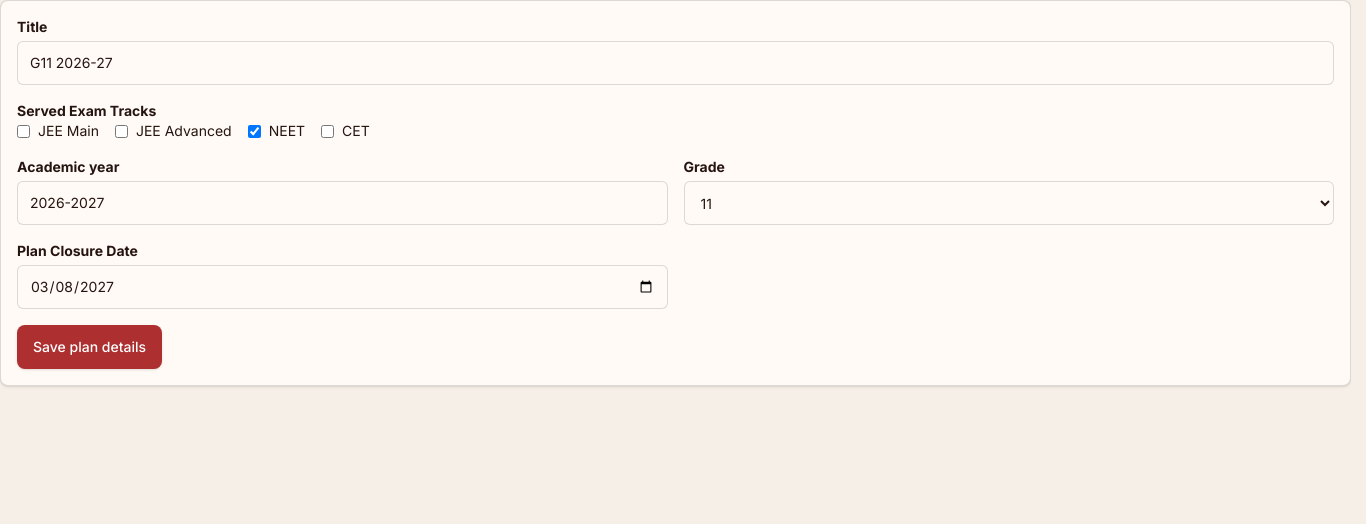
it: CurriculumPlanMetadataForm › lists every validation error, naming the Chapter when there is one
The image size is (1366, 524).
Click the button "Save plan details": (90, 347) [17,325,162,369]
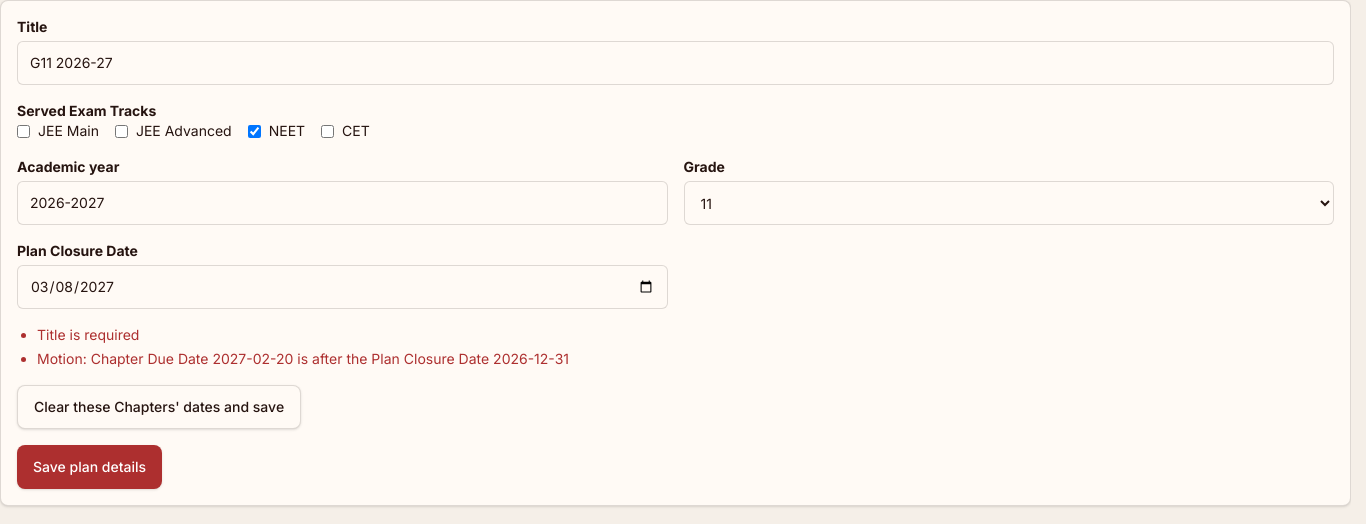
Now the message with test id "plan-details-errors" shows "Title is required", box [37,326,139,343]
Now the message with test id "plan-details-errors" shows "Motion: Chapter Due Date 2027-02-20 is after the Plan Closure Date 2026-12-31", box [37,326,569,367]
